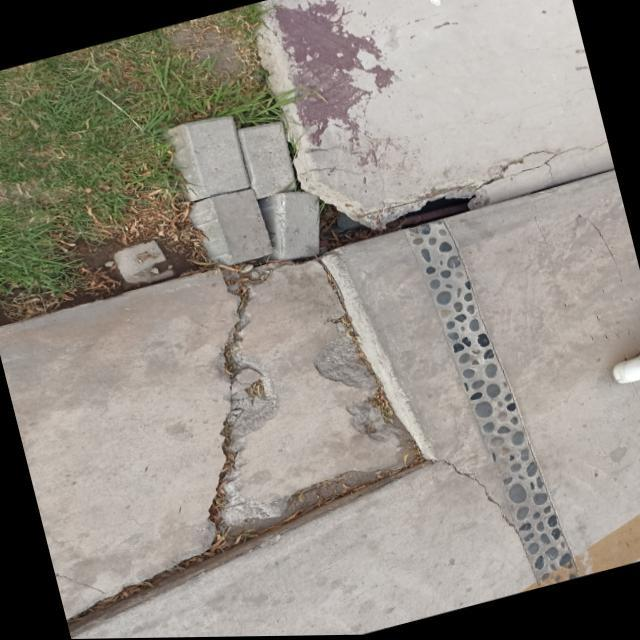bump: (323, 262, 443, 462)
hole: (72, 450, 432, 640), (298, 156, 496, 264)
